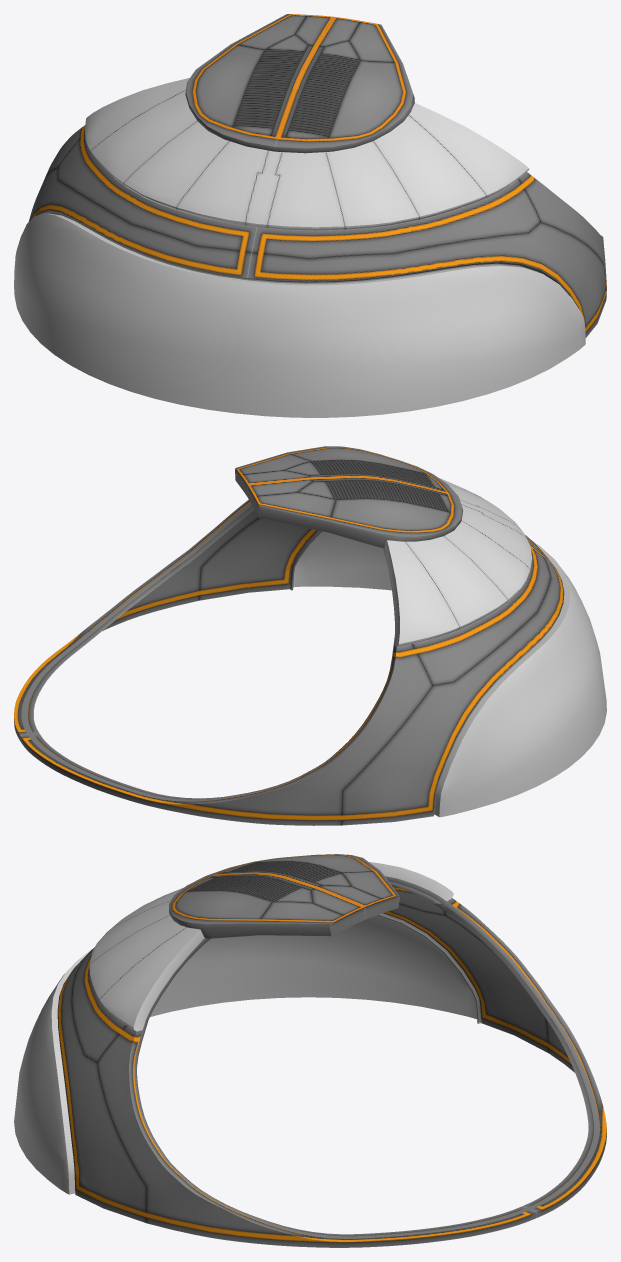
File: GravityPod_Casing.fbx
3 views of the same model, one above another, from view 1: azimuth 30°, elevation 25°; view 2: azimuth 150°, elevation 25°; view 3: azimuth 270°, elevation 25° (orthographic). The views are drawn at different scales.
Parts seen in each view (by area): view 1: GravityPod_Casing; view 2: GravityPod_Casing; view 3: GravityPod_Casing.
Part boxes in pixels (x1,y1,x2,y2): GravityPod_Casing: [14, 14, 606, 417]; GravityPod_Casing: [14, 446, 606, 825]; GravityPod_Casing: [14, 854, 606, 1247].
Size of the model in its own units: 2026 by 900 by 2026.
Materials: 3 (2 with a texture image).
